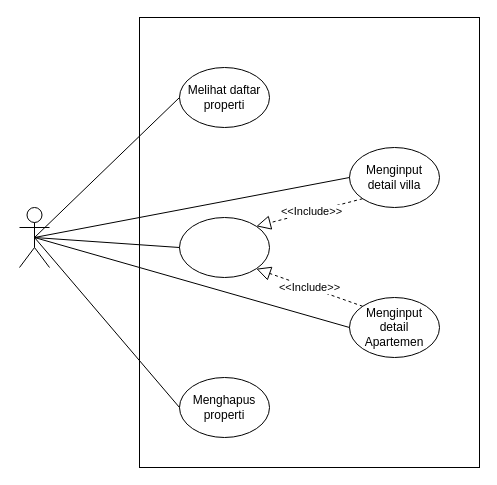
Image size: 497x485. Some labels were removed from this diagram. The centre of each missing label's shape, as x and y in pixels:
Agen Real Estate: [34,237]
Menambahkan properti: [224,247]
